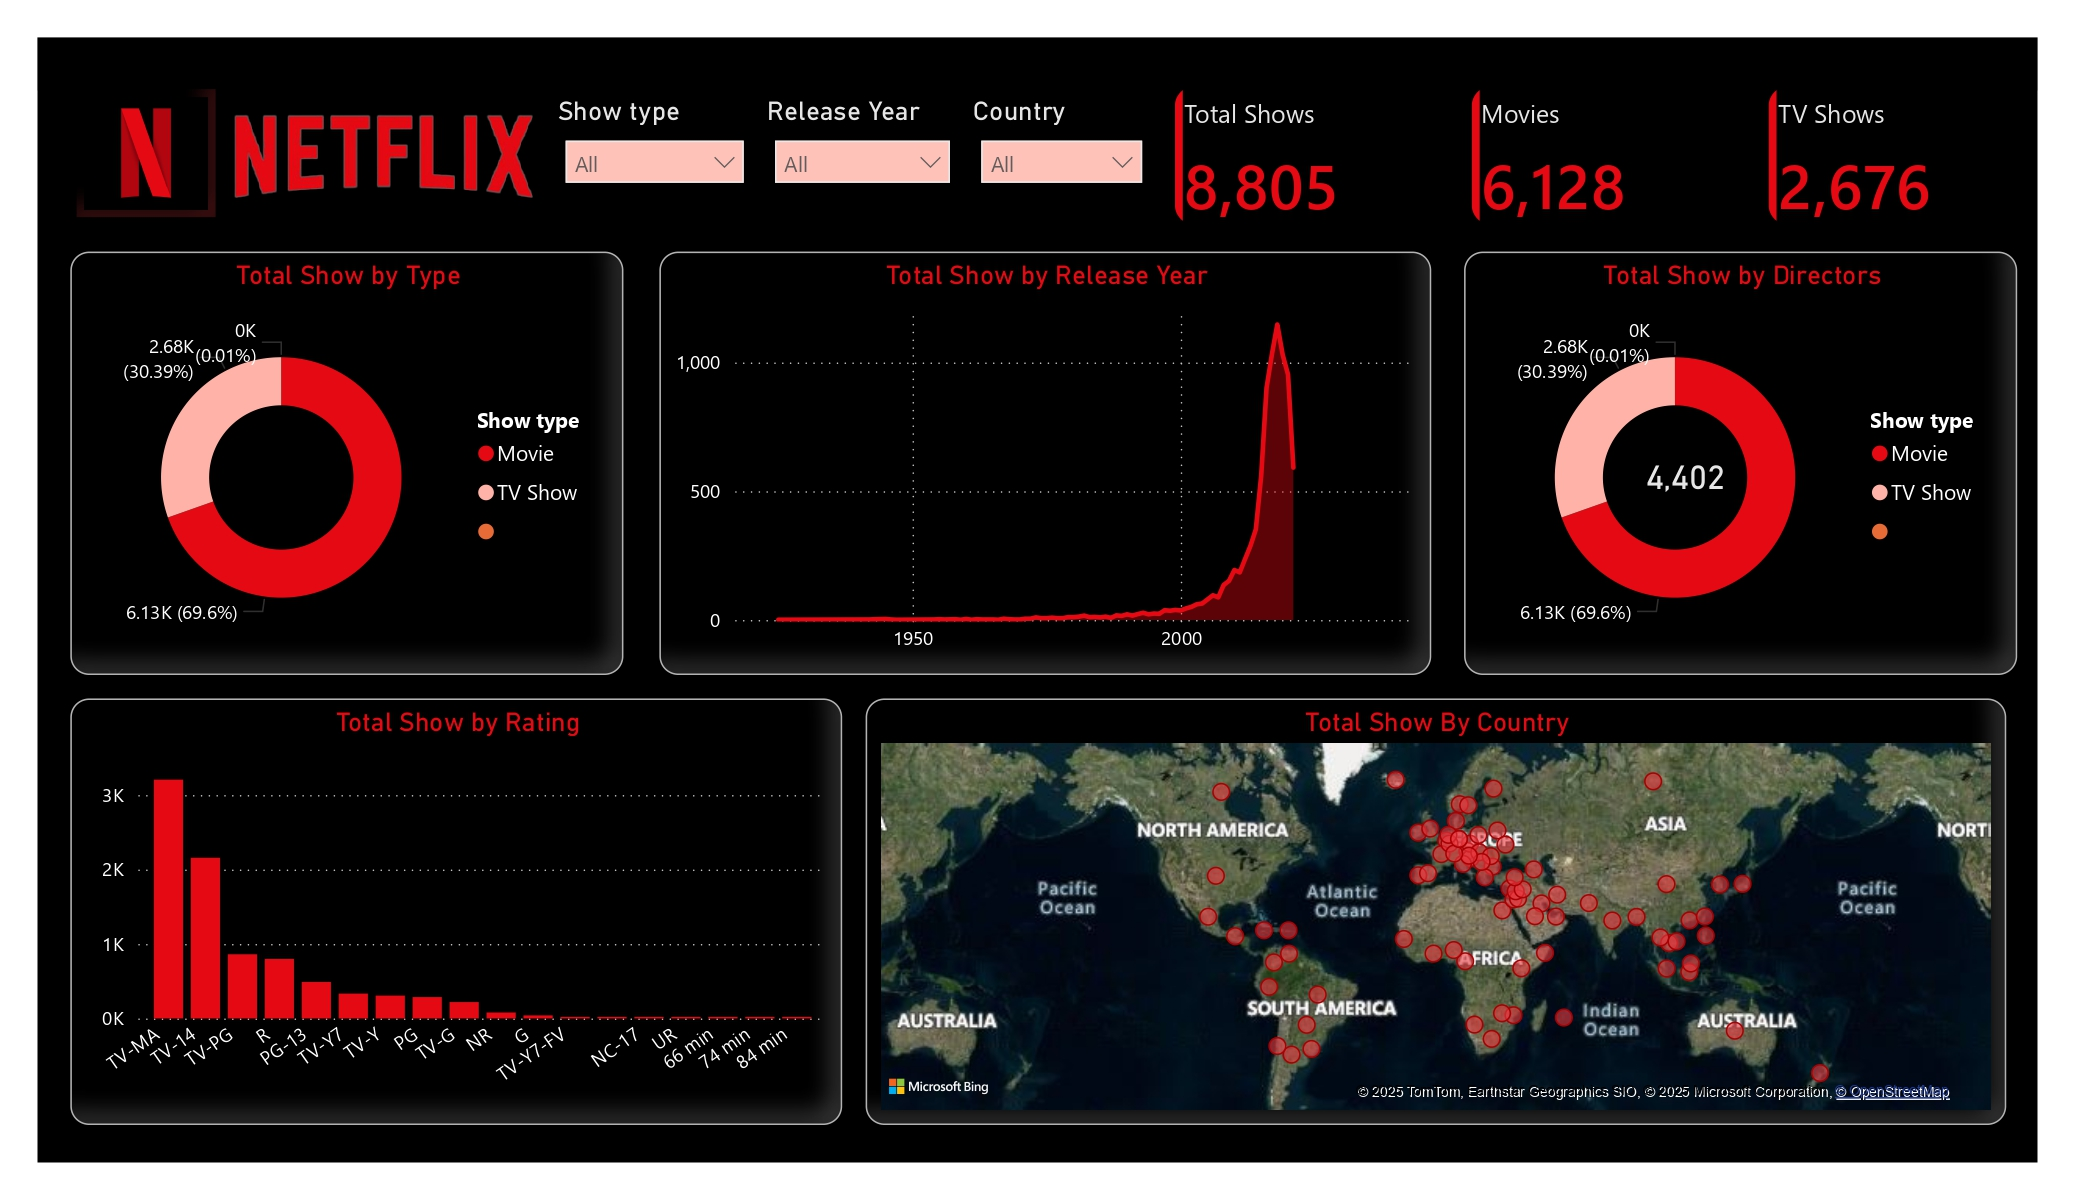

What the dashboard file says about the page in this screenshot:
{"tool":"powerbi","page":{"name":"Page 1","canvas":[1280,720],"ordinal":0},"visuals":[{"type":"cardVisual","fields":{"Data":["Measure_.Total Shows","Measure_.Movies","Measure_.TV Shows"]},"box":[711.5,13.7,551.6,123.5],"z":0},{"type":"donutChart","title":"Total Show by Type","fields":{"Category":["netflix_titles.type"],"Y":["CountNonNull(netflix_titles.show_id)"]},"box":[20.6,137.2,354,270.3],"z":1000},{"type":"stackedAreaChart","title":"Total Show by Release Year","fields":{"Category":["netflix_titles.release_year"],"Y":["CountNonNull(netflix_titles.show_id)"]},"box":[397.9,137.2,494,270.3],"z":2000},{"type":"donutChart","title":"Total Show by Directors","fields":{"Category":["netflix_titles.type"],"Y":["CountNonNull(netflix_titles.Director_new)"]},"box":[912.5,137.2,354,270.3],"z":3000},{"type":"card","fields":{"Values":["Measure_.Total Director"]},"box":[971.5,245.6,166,70],"z":4000},{"type":"columnChart","title":"Total Show by Rating","fields":{"Category":["netflix_titles.rating"],"Y":["CountNonNull(netflix_titles.show_id)"]},"box":[20.6,422.6,494,273.1],"z":5000},{"type":"map","fields":{"Category":["netflix_titles.Country_new"]},"box":[529.7,422.6,730,273.1],"z":6000},{"type":"slicer","title":"Show type","fields":{"Values":["netflix_titles.type"]},"box":[328,37,134.5,85.1],"z":7000},{"type":"slicer","title":"Release Year","fields":{"Values":["netflix_titles.release_year"]},"box":[461.8,37,131.7,85.1],"z":8000},{"type":"slicer","title":"Country","fields":{"Values":["netflix_titles.Country_new"]},"box":[593.5,37,123.5,85.1],"z":9000},{"type":"image","box":[113.9,13.7,214.1,123.5],"z":10000},{"type":"image","box":[24.7,32.9,89.2,82.3],"z":11000}]}

Visuals, with their boxes in screenshot pixels (x1, y1, x2, y2):
cardVisual - Measure_.Total Shows x Measure_.Movies: pyautogui.locateOnScreen(1149, 59, 2011, 252)
"Total Show by Type" donutChart: pyautogui.locateOnScreen(70, 252, 623, 674)
"Total Show by Release Year" stackedAreaChart: pyautogui.locateOnScreen(659, 252, 1431, 674)
"Total Show by Directors" donutChart: pyautogui.locateOnScreen(1463, 252, 2016, 674)
card - Measure_.Total Director: pyautogui.locateOnScreen(1555, 421, 1815, 531)
"Total Show by Rating" columnChart: pyautogui.locateOnScreen(70, 698, 842, 1125)
map - netflix_titles.Country_new: pyautogui.locateOnScreen(865, 698, 2006, 1125)
"Show type" slicer: pyautogui.locateOnScreen(550, 95, 760, 228)
"Release Year" slicer: pyautogui.locateOnScreen(759, 95, 965, 228)
"Country" slicer: pyautogui.locateOnScreen(965, 95, 1158, 228)
image: pyautogui.locateOnScreen(215, 59, 550, 252)
image: pyautogui.locateOnScreen(76, 89, 215, 217)
